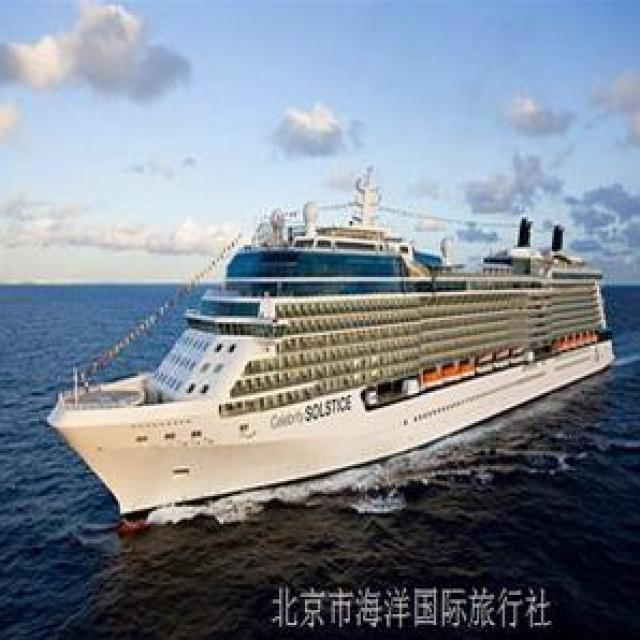passenger ship: (51, 187, 614, 512)
